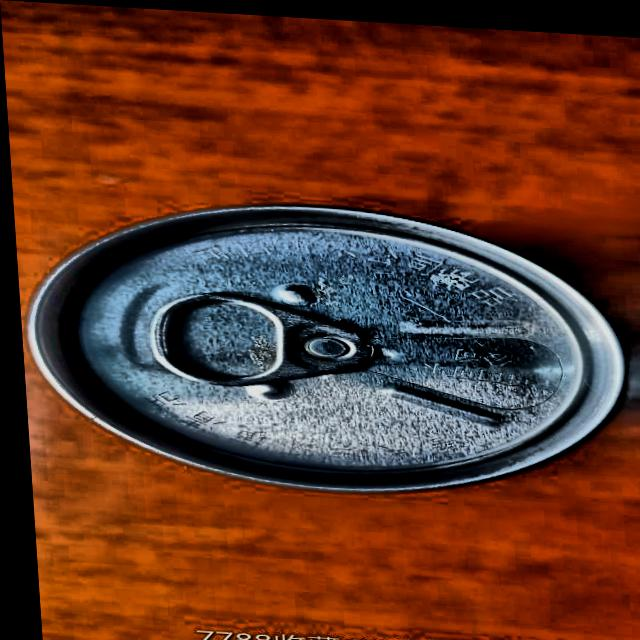can: (10, 180, 640, 507)
